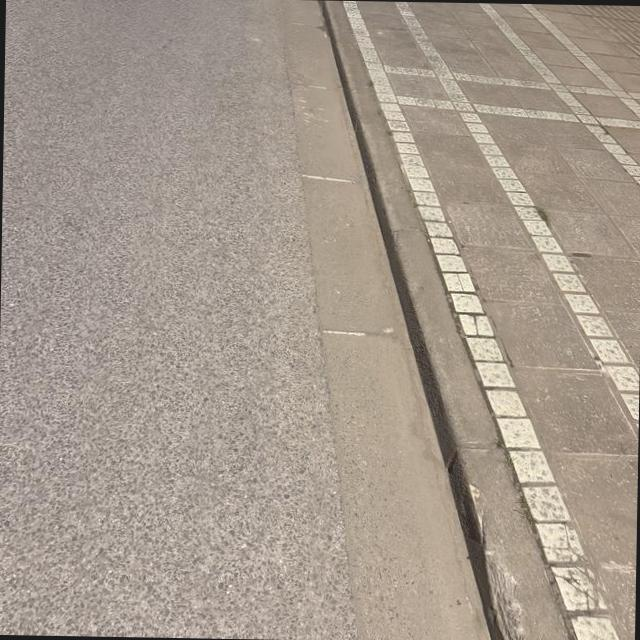curb: (321, 0, 574, 640)
